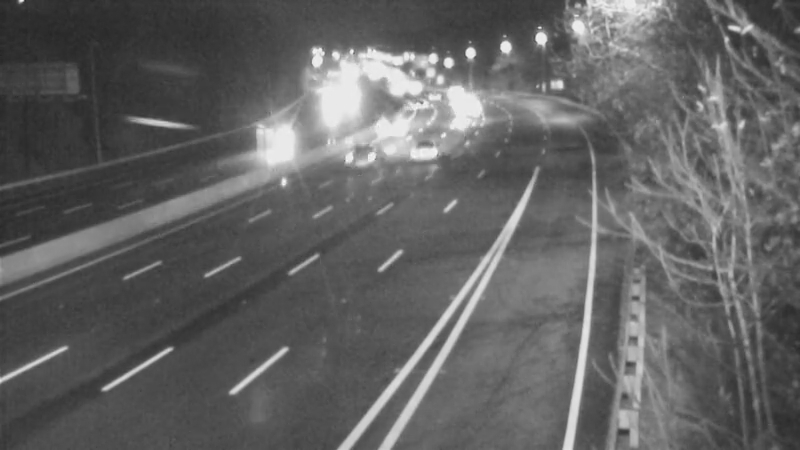vehicle: (312, 120, 392, 200), (393, 63, 443, 113), (371, 65, 421, 115), (425, 64, 475, 114), (402, 68, 452, 118), (431, 76, 481, 126), (383, 81, 433, 131), (442, 78, 492, 128), (434, 96, 484, 146), (366, 98, 416, 148), (409, 125, 459, 175), (252, 119, 302, 169)
